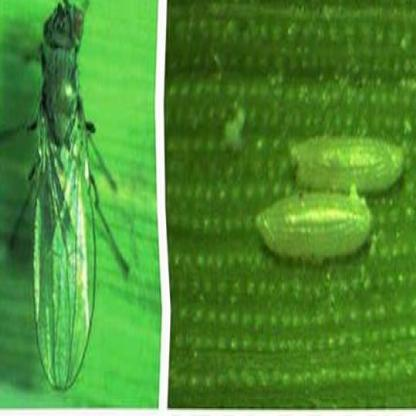whorl-maggot: (252, 191, 382, 261), (288, 130, 410, 192)
